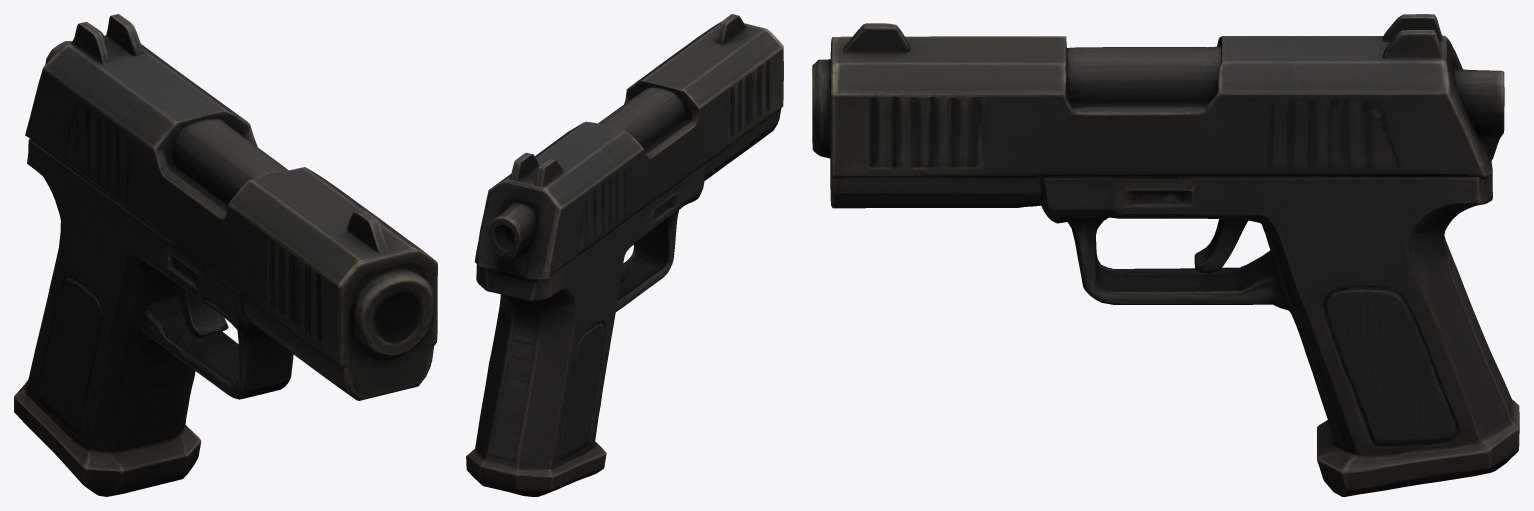
Rendered from weapon-pistol.glb.
3 renders of one model, left to right at view 1: azimuth 30°, elevation 25°; view 2: azimuth 150°, elevation 25°; view 3: azimuth 270°, elevation 25°, orthographic. The views are drawn at different scales.
Visible parts, largest first — view 1: world; view 2: world; view 3: world.
Boxes of the visible parts, x1,y1,x2,y2 form: world: (14,14,437,496); world: (466,14,783,496); world: (812,14,1519,496).
Bounding box in the file's own units: 0.1964 × 0.6998 × 0.9942.
Materials: 1 (1 with a texture image).
